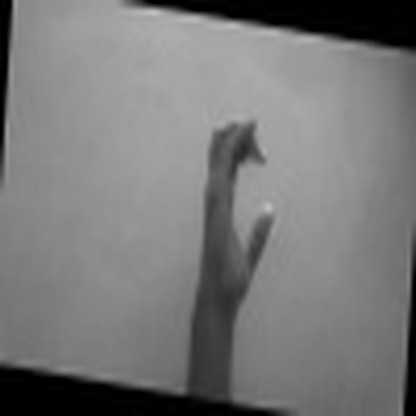c: (188, 112, 287, 328)
